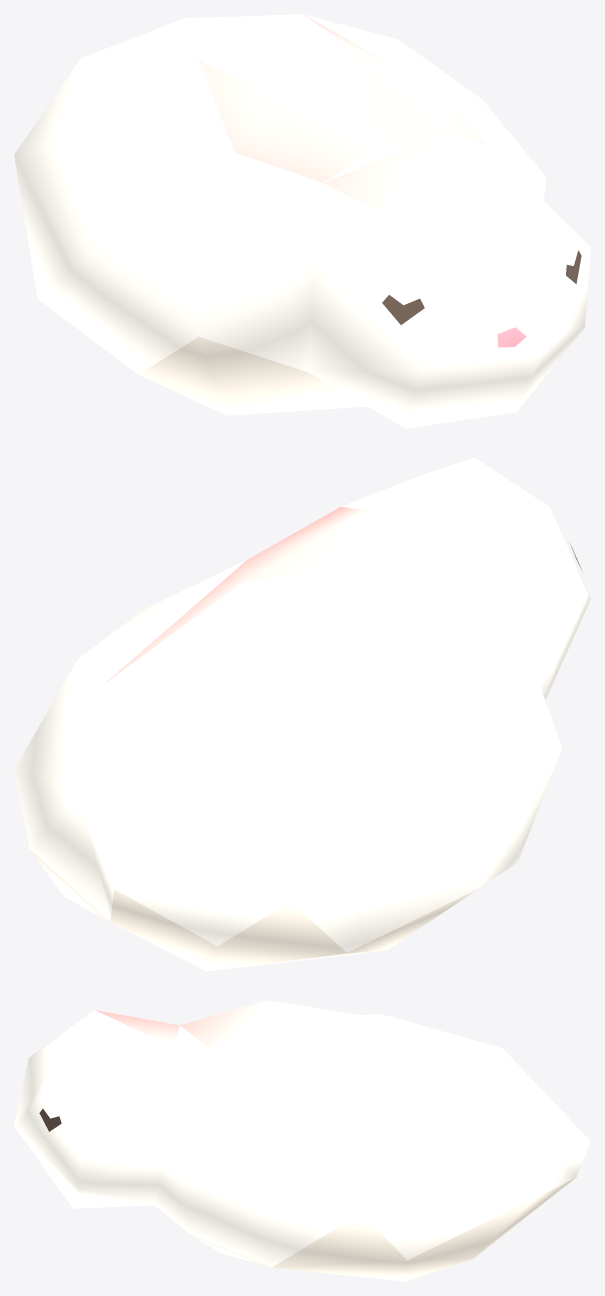
File: bunny-sleep.glb
3 renders of one model, top to bottom at view 1: azimuth 30°, elevation 25°; view 2: azimuth 150°, elevation 25°; view 3: azimuth 270°, elevation 25°, orthographic. The views are drawn at different scales.
Parts seen in each view (by area): view 1: bunny-sleep; view 2: bunny-sleep; view 3: bunny-sleep.
Boxes of the visible parts, left/top/right/bottom form: bunny-sleep: left=14, top=14, right=590, bottom=428; bunny-sleep: left=14, top=457, right=590, bottom=971; bunny-sleep: left=14, top=1000, right=590, bottom=1281.
Bounding box in the file's own units: 0.468 × 0.34 × 0.742.
